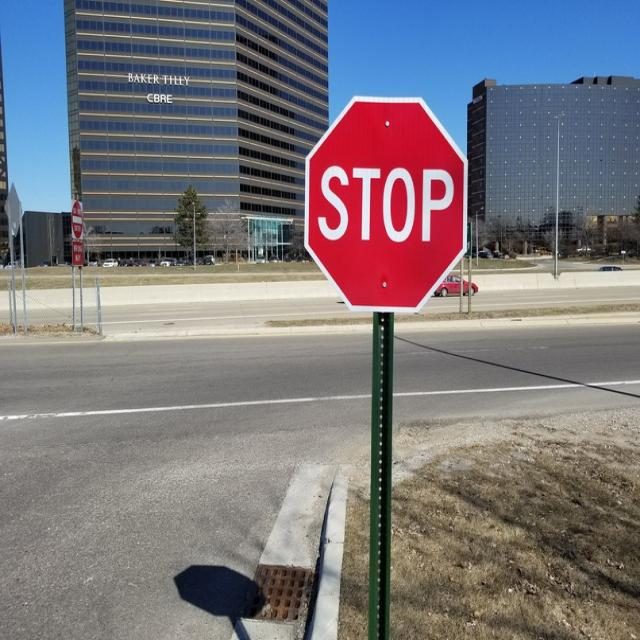Panneau-Stop: (296, 89, 471, 316)
